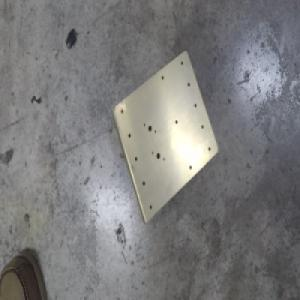MetalSheet: (110, 48, 218, 226)
